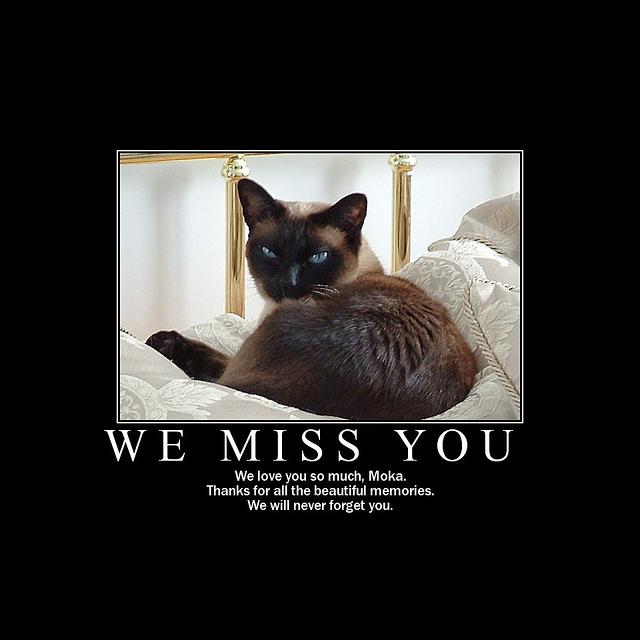animals: (241, 179, 364, 289)
